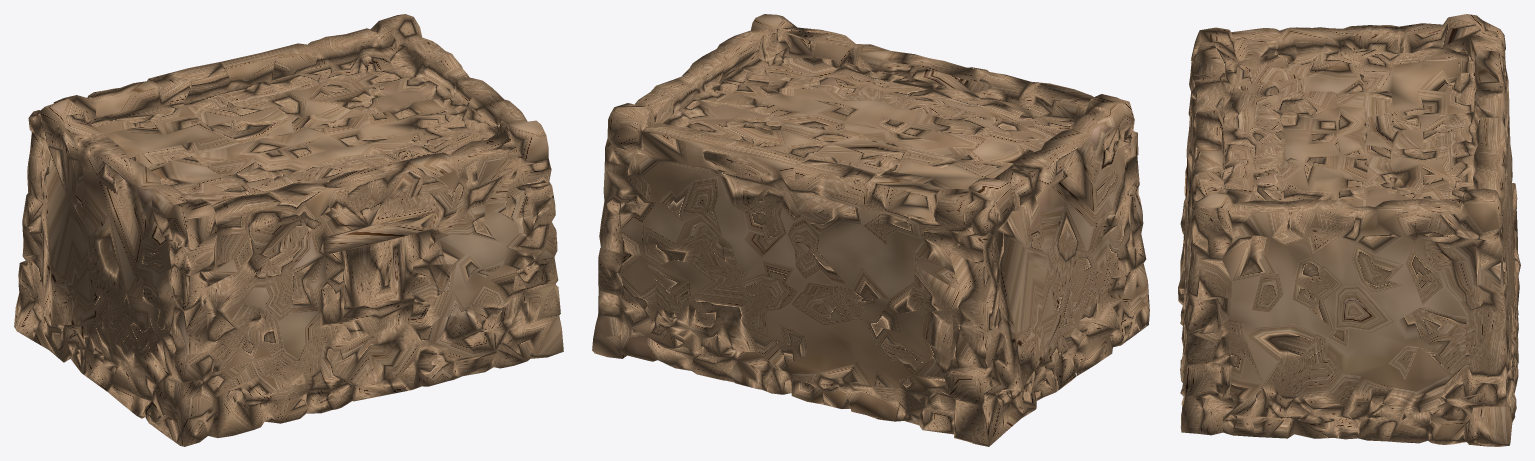
Rendered from limestone-house-annex.glb.
3 renders of one model, left to right at view 1: azimuth 30°, elevation 25°; view 2: azimuth 150°, elevation 25°; view 3: azimuth 270°, elevation 25°, orthographic.
Parts seen in each view (by area): view 1: geometry_0; view 2: geometry_0; view 3: geometry_0.
Part boxes in pixels (left/top/right/bottom): geometry_0: left=14, top=14, right=563, bottom=446; geometry_0: left=592, top=14, right=1149, bottom=446; geometry_0: left=1178, top=14, right=1520, bottom=446.
Bounding box in the file's own units: 4.5 × 2.65 × 3.32.
1 material, 1 textured.
